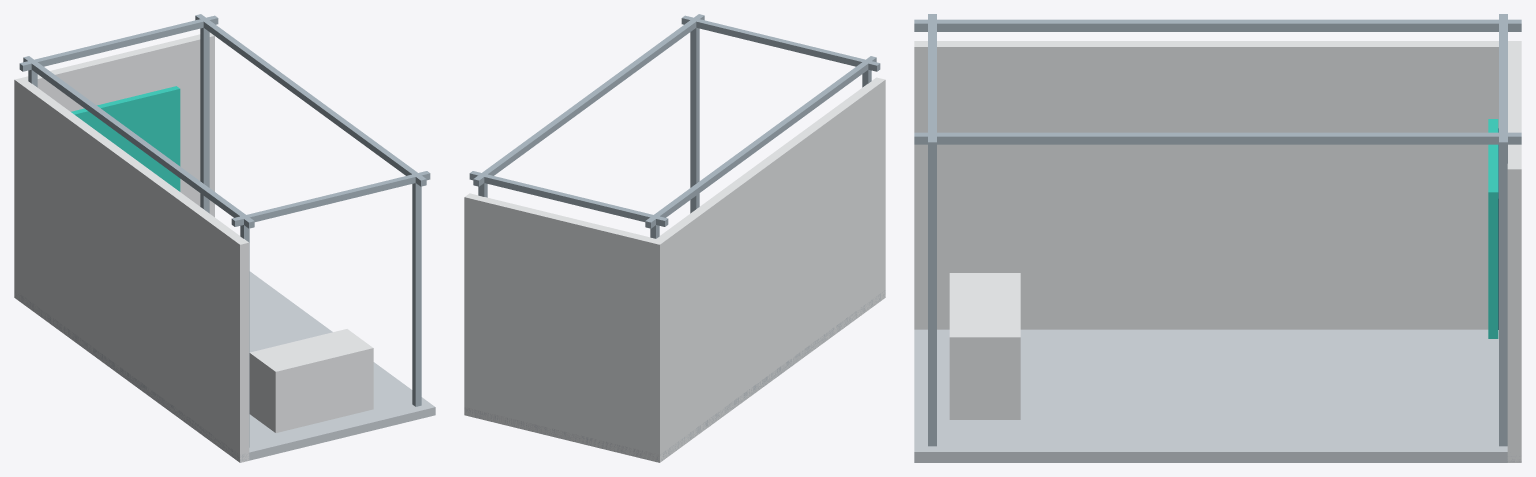
3 renders of one model, left to right at view 1: azimuth 30°, elevation 25°; view 2: azimuth 150°, elevation 25°; view 3: azimuth 270°, elevation 25°, orthographic. The views are drawn at different scales.
Visible parts, largest first — view 1: Exhibition Booth Concept; view 2: Exhibition Booth Concept; view 3: Exhibition Booth Concept.
Boxes of the visible parts, bbox=[...] form: Exhibition Booth Concept: bbox=[14, 14, 435, 462]; Exhibition Booth Concept: bbox=[464, 14, 885, 462]; Exhibition Booth Concept: bbox=[914, 14, 1521, 462].
Bounding box in the file's own units: 3 × 3.49 × 6.
